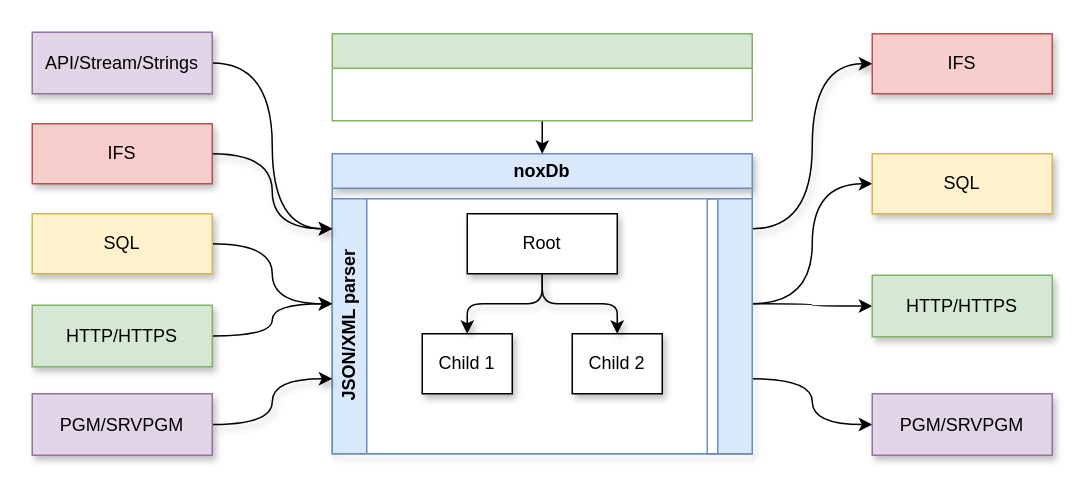
This 1088x492 diagram has some shape labels left out. The centre of each missing label's shape, as x and y in pixels:
JSON/XML serialiser: pixel 729 325
Your Applications: pixel 541 76
